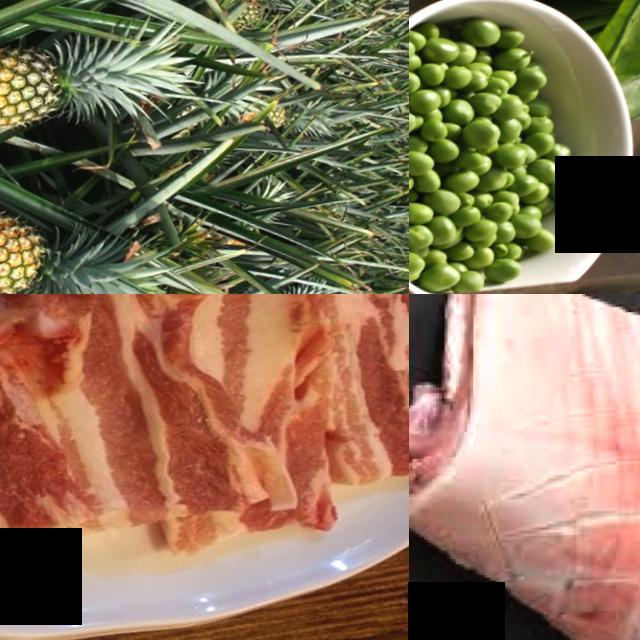peas: (409, 1, 605, 279)
pineapple: (0, 21, 117, 141), (0, 185, 101, 294)
pork belly: (0, 294, 322, 555), (409, 294, 640, 572), (285, 294, 409, 489), (0, 294, 68, 579)
